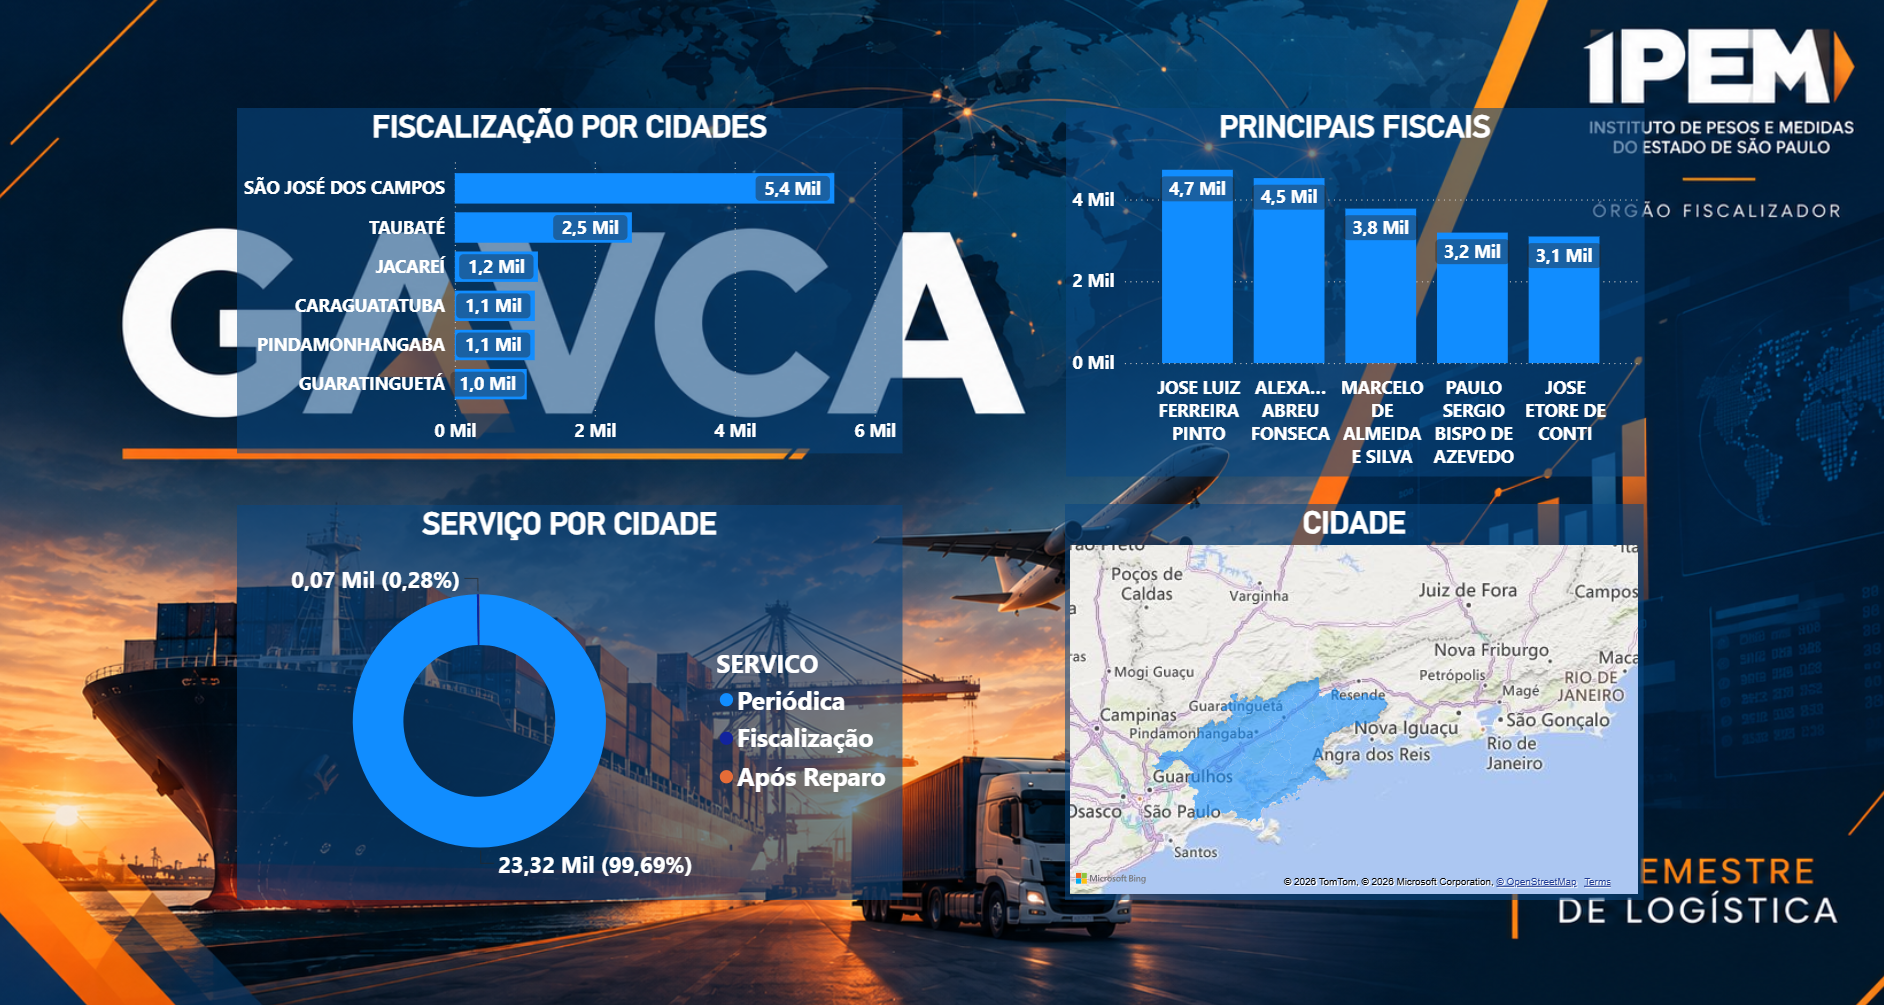

Layout of this report page (visuals, bound fields, positions):
{"tool":"powerbi","page":{"name":"SPRINT 1","canvas":[1300,800],"ordinal":4},"visuals":[{"type":"pieChart","title":"Porcentagem de Serviços","fields":{"Category":["data_v1_tratado.SERVICO"],"Y":["CountNonNull(data_v1_tratado.CIDADE)"]},"box":[3500,1587.5,2156.2,1412.5],"z":0},{"type":"barChart","title":"TOTAL FISCALIZAÇÃO POR CIDADE","fields":{"Category":["data_v1_tratado.CIDADE"],"Y":["Count(data_v1_tratado.NR_INMETRO)"]},"box":[0,0,615.2,351.5],"z":1000},{"type":"donutChart","title":"CATEGORIA DE SERVIÇO","fields":{"Category":["data_v1_tratado.SERVICO"],"Y":["CountNonNull(data_v1_tratado.CIDADE)"]},"box":[0,381.4,639,389.8],"z":2000},{"type":"columnChart","title":"PRINCIPAIS FISCAIS","fields":{"Category":["data_v1_tratado.NOME DO FISCAL"],"Y":["CountNonNull(data_v1_tratado.NR_INMETRO)"]},"box":[639.4,0,660.6,351.5],"z":3000},{"type":"filledMap","title":"MAPA DA REGIÃO","fields":{"Category":["data_v1_tratado.CIDADE"]},"box":[650.8,381.4,649.2,389.8],"z":4000}]}

Visuals, with their boxes on the page's 1300x800 design canvas (x1, y1, x2, y2). These are canvas units, not pixel positions in the 1884x1005 screenshot, which may show the page scaled, cropped or inside an application window:
"Porcentagem de Serviços" pieChart: bbox=[3500, 1588, 5656, 3000]
"TOTAL FISCALIZAÇÃO POR CIDADE" barChart: bbox=[0, 0, 615, 352]
"CATEGORIA DE SERVIÇO" donutChart: bbox=[0, 381, 639, 771]
"PRINCIPAIS FISCAIS" columnChart: bbox=[639, 0, 1300, 352]
"MAPA DA REGIÃO" filledMap: bbox=[651, 381, 1300, 771]
